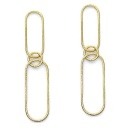Metal: (19, 9, 56, 128), (73, 1, 109, 119)
